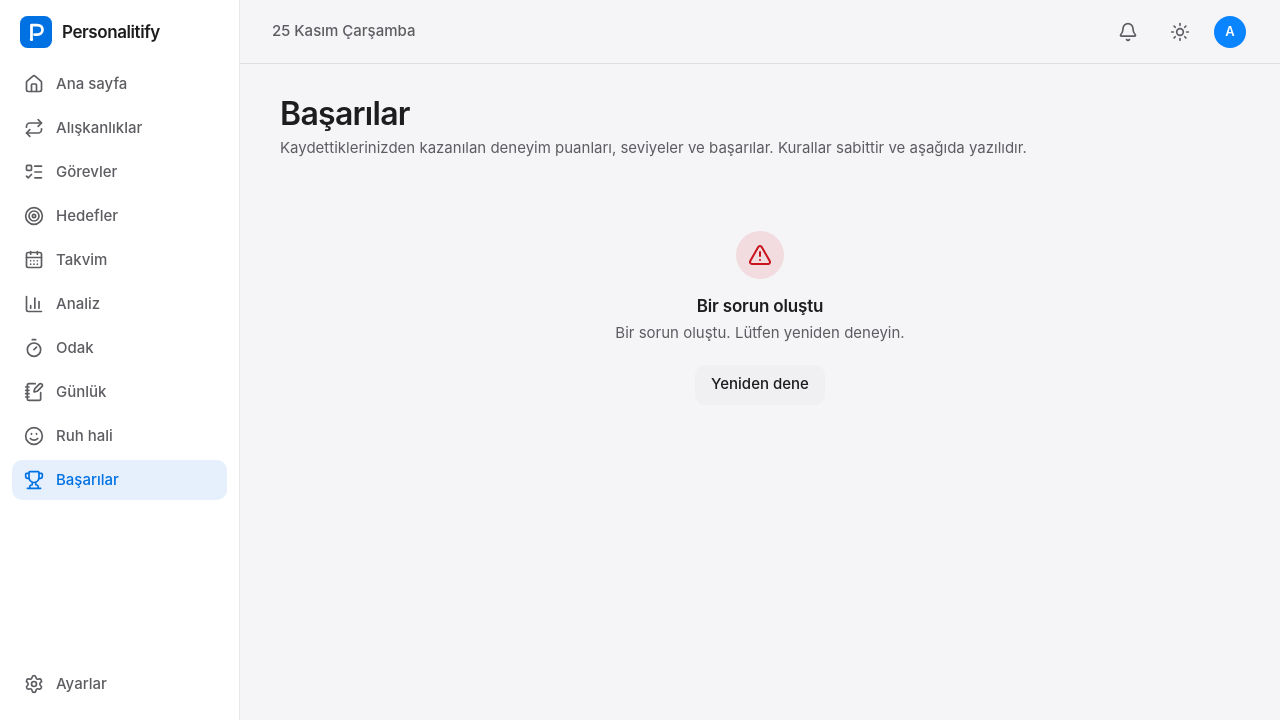
it: achievements › invites a new account to start and offers a retry on failure
This screenshot has width=1280, height=720.
Click the button "Yeniden dene". click: (760, 385)
box: top-left (695, 365), bottom-right (825, 405)
(page scrolled)
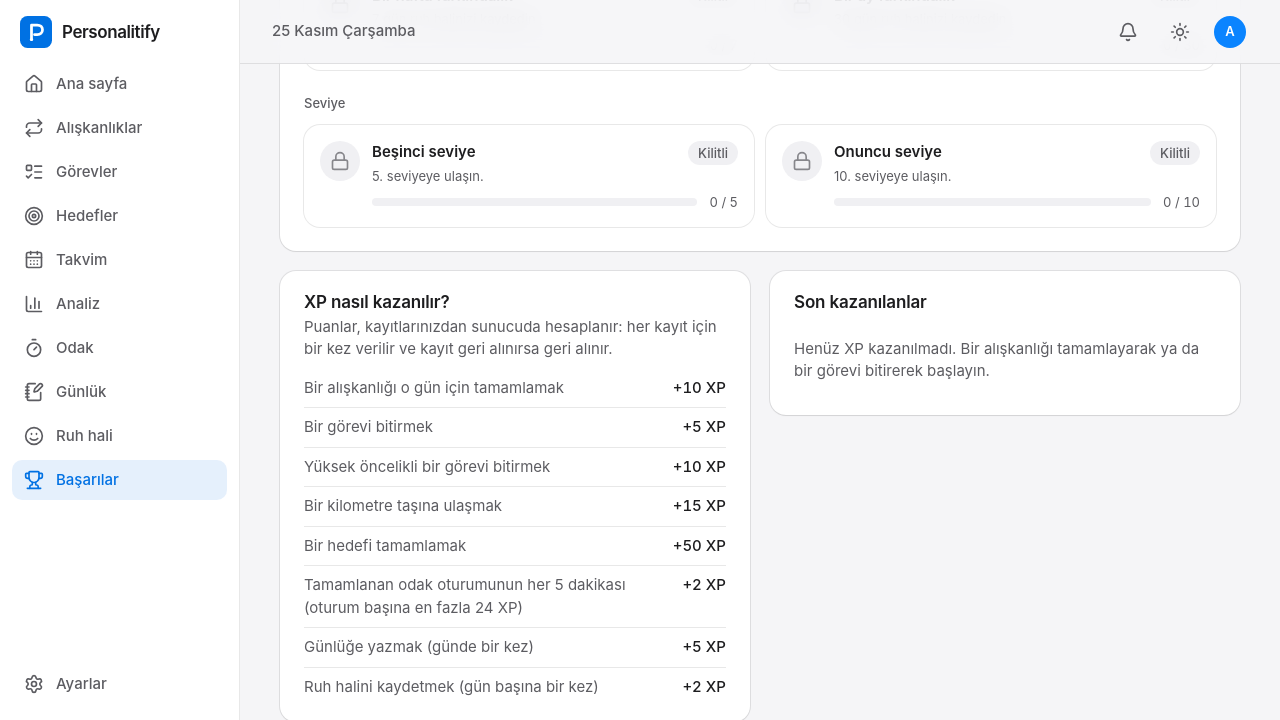
Expected: the text "Henüz XP kazanılmadı. Bir alışkanlığı tamamlayarak ya da bir görevi bitirerek başlayın." is shown, top-left (794, 339), bottom-right (1199, 380)
